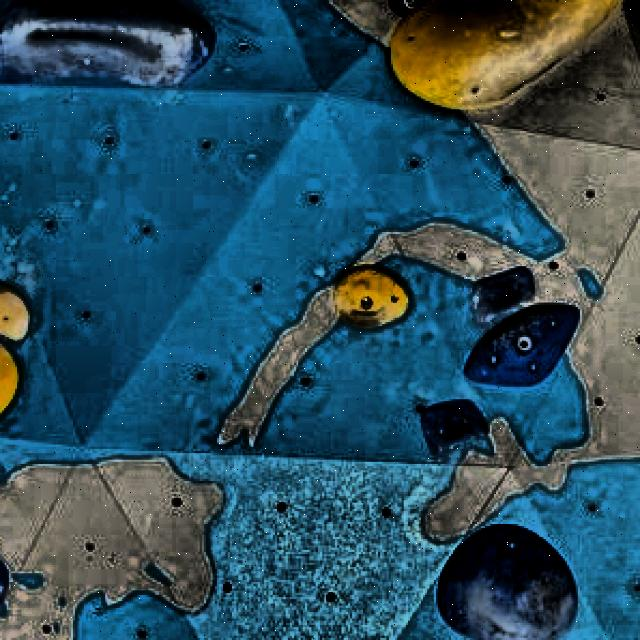Hold: (438, 524, 578, 640), (464, 307, 580, 387), (333, 266, 410, 329), (421, 402, 488, 460), (472, 266, 535, 326), (0, 283, 30, 339), (627, 0, 640, 30)
Macro: (389, 0, 621, 110), (0, 0, 215, 86)
start_tag: (389, 0, 423, 17)
